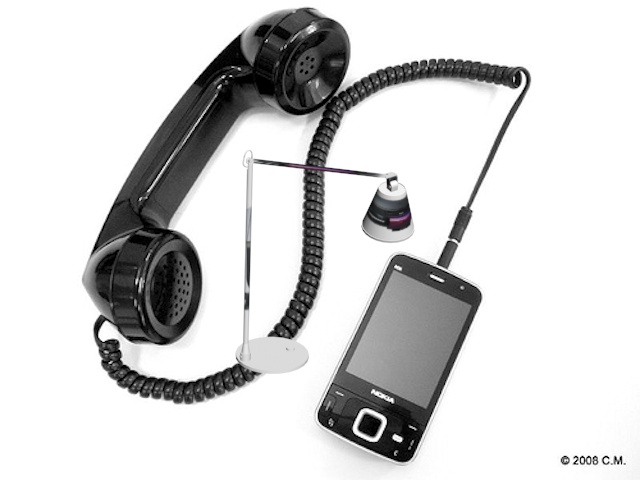desk_lamp: (233, 145, 417, 376)
